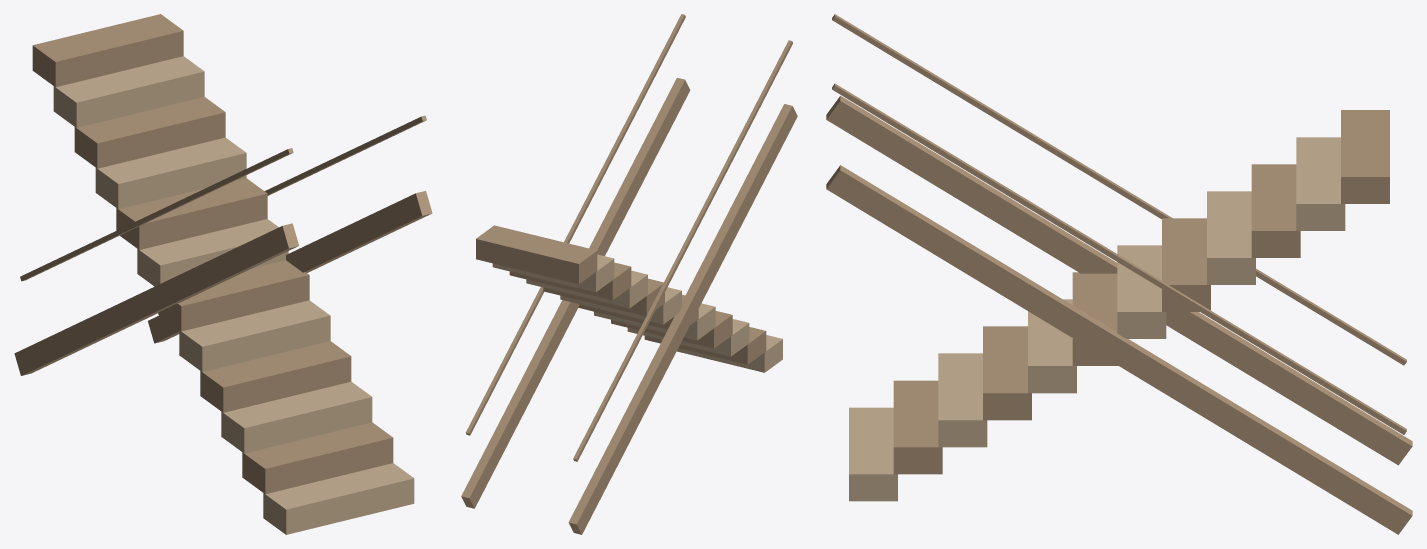
Rendered from StairFlight.glb.
3 renders of one model, left to right at view 1: azimuth 30°, elevation 25°; view 2: azimuth 150°, elevation 25°; view 3: azimuth 270°, elevation 25°, orthographic. The views are drawn at different scales.
Parts seen in each view (by area): view 1: StairFlight; view 2: StairFlight; view 3: StairFlight.
Boxes of the visible parts, box(x1,y1,x2,y2) form: StairFlight: box(14, 14, 432, 534); StairFlight: box(461, 14, 797, 534); StairFlight: box(826, 14, 1412, 534).
Size of the model in its own units: 1.68 by 4.69 by 5.57.
